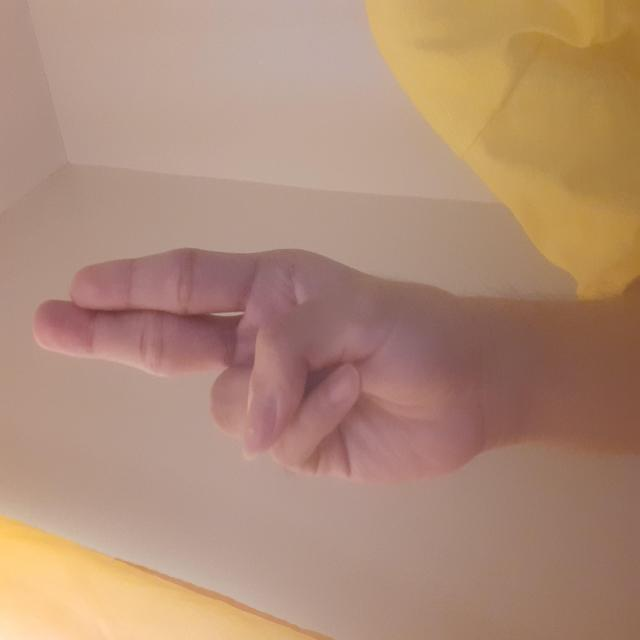U: (158, 32, 390, 468)
